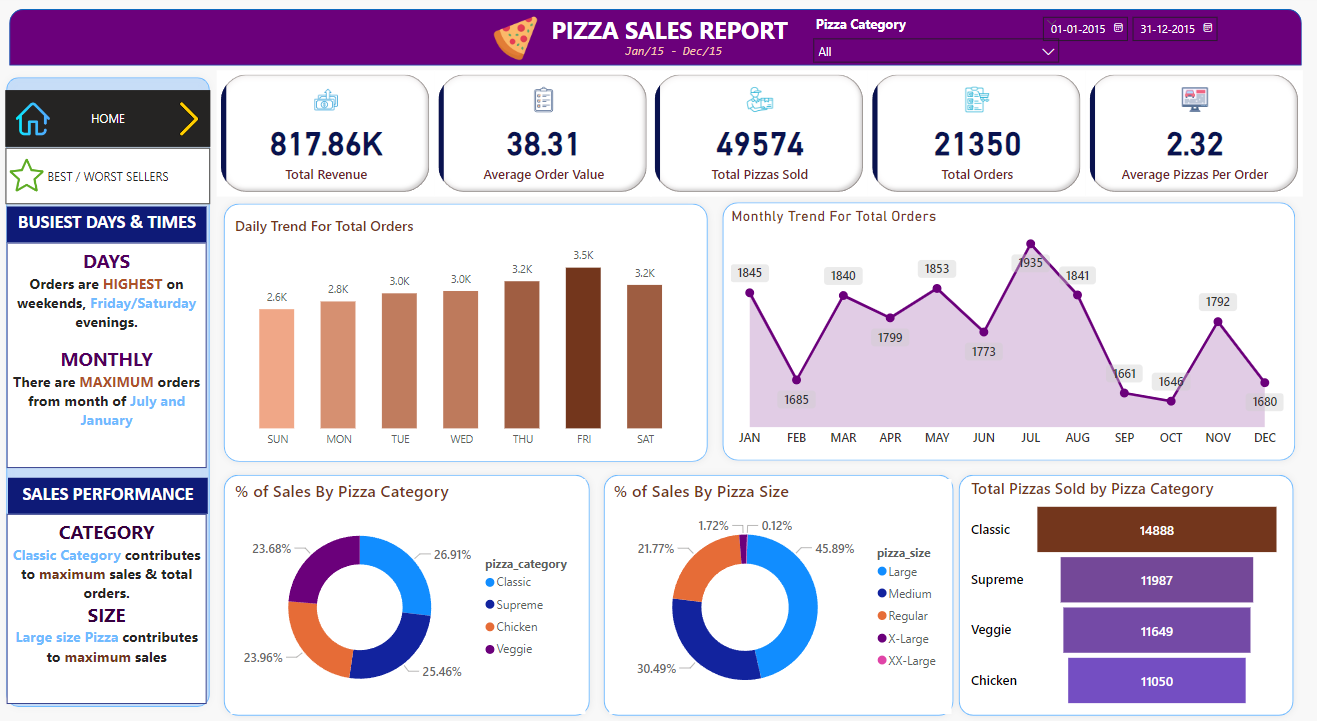

Layout of this report page (visuals, bound fields, positions):
{"tool":"powerbi","page":{"name":"HOME","canvas":[1500,820],"ordinal":0},"visuals":[{"type":"cardVisual","fields":{"Data":["pizza_sales.Total Revenue"]},"box":[247.6,80.4,246,143],"z":0,"group":"g1"},{"type":"shape","box":[1.4,80.8,246.5,729.6],"z":0},{"type":"group","id":"g1","title":"Group 1","box":[247.6,80.4,1230.2,143.1],"z":1000},{"type":"cardVisual","fields":{"Data":["pizza_sales.Average Order Value"]},"box":[493.6,80.4,246,143],"z":1000,"group":"g1"},{"type":"shape","box":[12.9,11.3,1464.9,64.3],"z":2000},{"type":"cardVisual","fields":{"Data":["pizza_sales.Total Pizzas Sold"]},"box":[739.6,80.4,246,143],"z":2000,"group":"g1"},{"type":"textbox","box":[586.9,11.3,349,49.9],"z":3000},{"type":"cardVisual","fields":{"Data":["pizza_sales.Total Orders"]},"box":[985.6,80.4,246,143],"z":3000,"group":"g1"},{"type":"textbox","box":[705.9,43.4,162.4,37],"z":4000},{"type":"cardVisual","fields":{"Data":["pizza_sales.Average Pizzas Per Order"]},"box":[1231.6,80.4,246,143],"z":4000,"group":"g1"},{"type":"image","box":[537.1,14.5,99.7,61.1],"z":5000},{"type":"shape","box":[247.6,223.5,564.4,308.7],"z":6000},{"type":"columnChart","title":"Daily Trend For Total Orders","fields":{"Category":["pizza_sales.Order Day"],"Y":["pizza_sales.Total Orders"]},"box":[263.7,244.4,524.2,271.8],"z":7000},{"type":"shape","box":[812.5,222.5,665,308.8],"z":8000},{"type":"areaChart","title":"Monthly Trend For Total Orders","fields":{"Category":["pizza_sales.Order Month"],"Y":["pizza_sales.Total Orders"]},"box":[826.2,235,636.2,281.2],"z":9000},{"type":"shape","box":[247.9,531.3,430.7,289],"z":10000},{"type":"shape","box":[678.6,531.3,412.3,289],"z":11000},{"type":"shape","box":[1081,531.3,395.3,289],"z":12000},{"type":"donutChart","title":"% of Sales By Pizza Category","fields":{"Category":["pizza_sales.pizza_category"],"Y":["pizza_sales.Total Revenue"]},"box":[263.5,544,402.4,266.3],"z":13000},{"type":"donutChart","title":"% of Sales By Pizza Size","fields":{"Y":["pizza_sales.Total Revenue"],"Category":["pizza_sales.pizza_size"]},"box":[692.8,544,388.2,266.3],"z":14000},{"type":"funnel","title":"Total Pizzas Sold by Pizza Category","fields":{"Category":["pizza_sales.pizza_category"],"Y":["pizza_sales.Total Pizzas Sold"]},"box":[1098,542.6,361.3,266.3],"z":15000},{"type":"textbox","box":[9.9,235.2,226.7,41.1],"z":16000},{"type":"textbox","box":[9.9,276.3,226.7,255],"z":17000},{"type":"textbox","box":[11.3,542.6,226.7,41.1],"z":18000},{"type":"textbox","box":[9.9,583.7,226.7,215.3],"z":19000},{"type":"slicer","fields":{"Values":["pizza_sales.pizza_category"]},"box":[913.8,12.8,298.9,62.3],"z":20000},{"type":"slicer","fields":{"Values":["pizza_sales.order_date"]},"box":[1171.6,9.9,298.9,66.6],"z":21000},{"type":"pageNavigator","box":[8,104,232,64],"z":22000},{"type":"pageNavigator","box":[8,168,232,64],"z":23000},{"type":"image","box":[192,112,48,48],"z":23001},{"type":"image","box":[16,112,48,48],"z":23002},{"type":"image","box":[8,176,48,48],"z":23003}]}

Visuals, with their boxes in screenshot pixels (x1, y1, x2, y2), scaled from the page's 1500x820 canvas onto the 1317x721 screenshot:
cardVisual - pizza_sales.Total Revenue: pyautogui.locateOnScreen(217, 71, 433, 196)
shape: pyautogui.locateOnScreen(1, 71, 218, 713)
"Group 1" group: pyautogui.locateOnScreen(217, 71, 1298, 197)
cardVisual - pizza_sales.Average Order Value: pyautogui.locateOnScreen(433, 71, 649, 196)
shape: pyautogui.locateOnScreen(11, 10, 1298, 66)
cardVisual - pizza_sales.Total Pizzas Sold: pyautogui.locateOnScreen(649, 71, 865, 196)
textbox: pyautogui.locateOnScreen(515, 10, 822, 54)
cardVisual - pizza_sales.Total Orders: pyautogui.locateOnScreen(865, 71, 1081, 196)
textbox: pyautogui.locateOnScreen(620, 38, 762, 71)
cardVisual - pizza_sales.Average Pizzas Per Order: pyautogui.locateOnScreen(1081, 71, 1297, 196)
image: pyautogui.locateOnScreen(472, 13, 559, 66)
shape: pyautogui.locateOnScreen(217, 197, 713, 468)
"Daily Trend For Total Orders" columnChart: pyautogui.locateOnScreen(232, 215, 692, 454)
shape: pyautogui.locateOnScreen(713, 196, 1297, 467)
"Monthly Trend For Total Orders" areaChart: pyautogui.locateOnScreen(725, 207, 1284, 454)
shape: pyautogui.locateOnScreen(218, 467, 596, 720)
shape: pyautogui.locateOnScreen(596, 467, 958, 720)
shape: pyautogui.locateOnScreen(949, 467, 1296, 720)
"% of Sales By Pizza Category" donutChart: pyautogui.locateOnScreen(231, 478, 585, 712)
"% of Sales By Pizza Size" donutChart: pyautogui.locateOnScreen(608, 478, 949, 712)
"Total Pizzas Sold by Pizza Category" funnel: pyautogui.locateOnScreen(964, 477, 1281, 711)
textbox: pyautogui.locateOnScreen(9, 207, 208, 243)
textbox: pyautogui.locateOnScreen(9, 243, 208, 467)
textbox: pyautogui.locateOnScreen(10, 477, 209, 513)
textbox: pyautogui.locateOnScreen(9, 513, 208, 703)
slicer - pizza_sales.pizza_category: pyautogui.locateOnScreen(802, 11, 1065, 66)
slicer - pizza_sales.order_date: pyautogui.locateOnScreen(1029, 9, 1291, 67)
pageNavigator: pyautogui.locateOnScreen(7, 91, 211, 148)
pageNavigator: pyautogui.locateOnScreen(7, 148, 211, 204)
image: pyautogui.locateOnScreen(169, 98, 211, 141)
image: pyautogui.locateOnScreen(14, 98, 56, 141)
image: pyautogui.locateOnScreen(7, 155, 49, 197)
